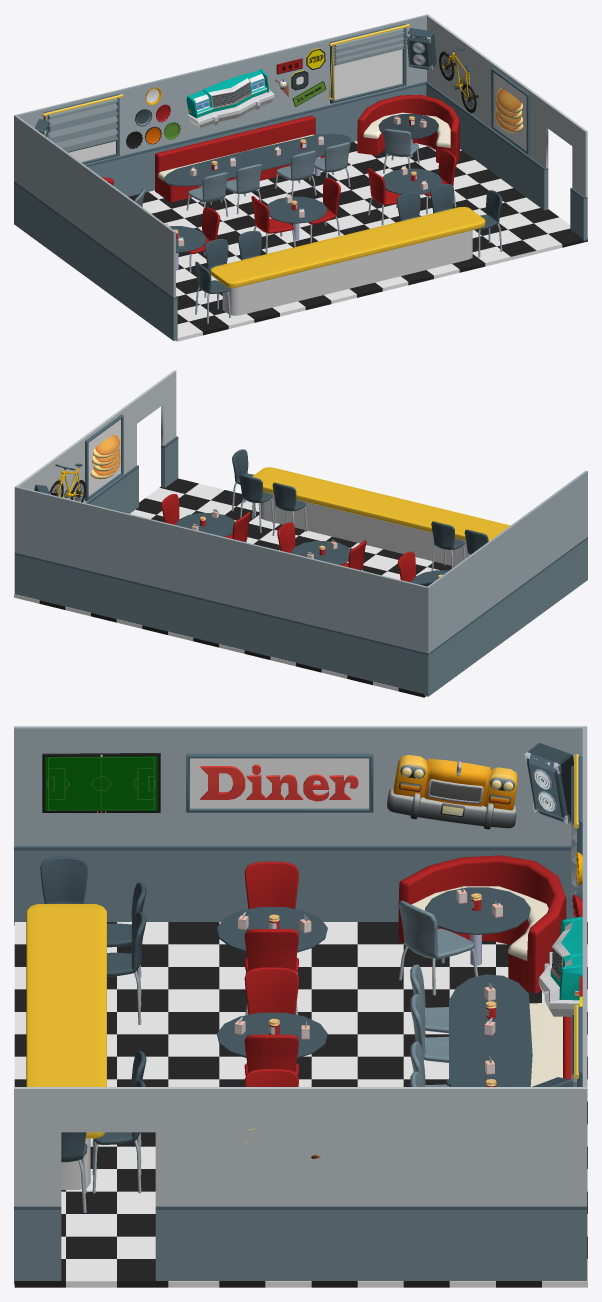
Rendered from 3_fancy_diner.fbx.
3 renders of one model, top to bottom at view 1: azimuth 30°, elevation 25°; view 2: azimuth 150°, elevation 25°; view 3: azimuth 270°, elevation 25°, orthographic. The views are drawn at different scales.
Visible parts, largest first — view 1: walls, floor, counter, window1, sopha1, window4, sopha, table6, front_red_car, pancake_painting, speakers, table1 (+20 smaller); view 2: walls, counter, floor, pancake_painting, table1, table, counter_chair3, counter_chair4, counter_chair2, bike, counter_chair5, chair5 (+2 smaller); view 3: walls, floor, counter, Diner_text, sopha2, table6, yellow_front_car, tv3, table3, speakers, front_red_car, sopha1 (+17 smaller).
Boxes of the visible parts, <box> form: walls: <box>14,14,587,340</box>; floor: <box>128,141,587,341</box>; counter: <box>210,207,485,315</box>; window1: <box>328,24,409,103</box>; sopha1: <box>155,115,324,201</box>; window4: <box>42,94,123,164</box>; sopha: <box>357,94,459,164</box>; table6: <box>163,133,350,203</box>; front_red_car: <box>186,69,274,128</box>; pancake_painting: <box>491,68,530,154</box>; speakers: <box>35,28,436,138</box>; table1: <box>267,196,327,240</box>; walls: <box>14,370,587,696</box>; counter: <box>252,467,510,566</box>; floor: <box>14,478,454,697</box>; pancake_painting: <box>85,414,123,501</box>; table1: <box>290,541,350,564</box>; table: <box>175,513,234,536</box>; counter_chair3: <box>239,474,273,532</box>; counter_chair4: <box>272,482,307,535</box>; counter_chair2: <box>431,521,465,570</box>; bike: <box>49,463,85,502</box>; counter_chair5: <box>232,449,255,516</box>; chair5: <box>161,494,179,524</box>; walls: <box>14,726,587,1284</box>; floor: <box>14,922,587,1287</box>; counter: <box>26,904,106,1189</box>; Diner_text: <box>186,753,373,812</box>; sopha2: <box>398,855,566,993</box>; table6: <box>449,974,532,1086</box>; yellow_front_car: <box>387,755,517,829</box>; tv3: <box>42,753,160,813</box>; table3: <box>425,887,530,965</box>; speakers: <box>524,743,573,1086</box>; front_red_car: <box>538,916,582,1016</box>; sopha1: <box>529,1003,571,1086</box>.
Bounding box in the file's own units: 45.16 × 11.71 × 30.18.
5 materials, 5 textured.
